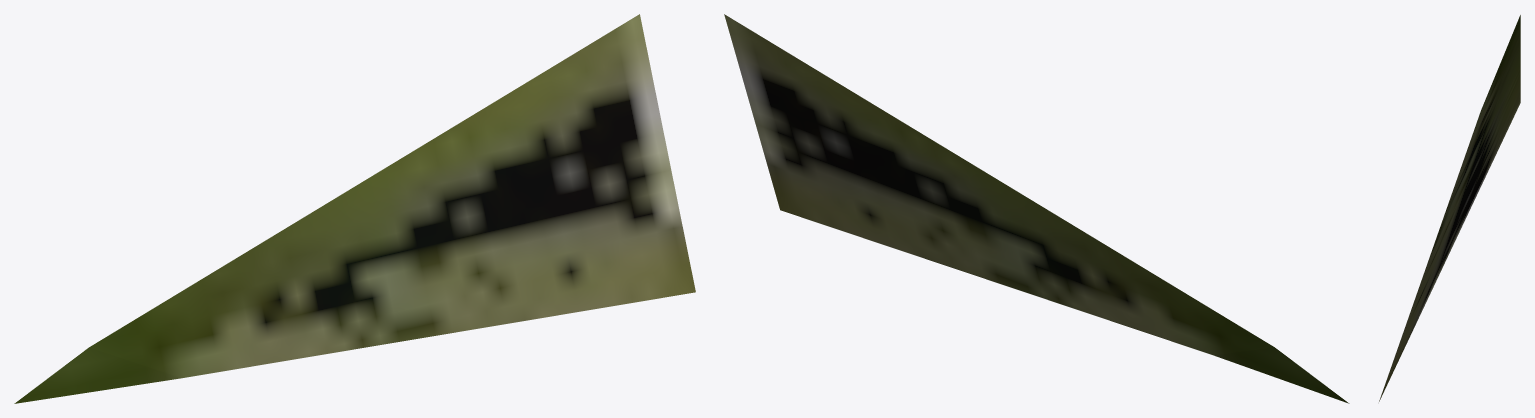
The picture shows the model from 3 angles, left to right: view 1: azimuth 30°, elevation 25°; view 2: azimuth 150°, elevation 25°; view 3: azimuth 270°, elevation 25°; orthographic projection. The views are drawn at different scales.
Bounding box in the file's own units: 0.2405 × 0.0871 × 0.0373.
1 material, 1 textured.
